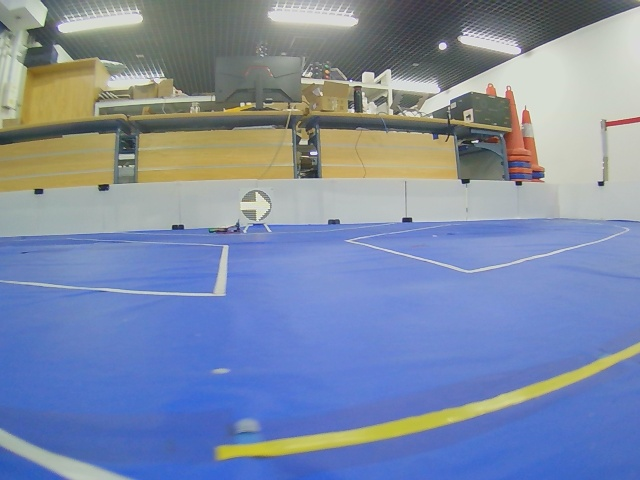right_yellow: (240, 190, 272, 222)
